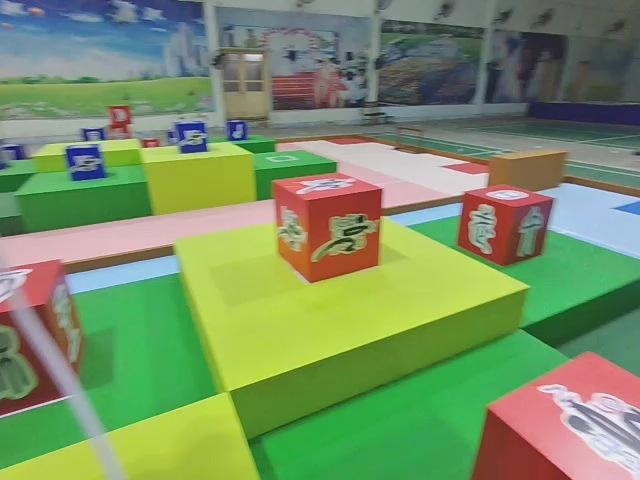R1: (470, 346, 640, 480), (270, 169, 384, 284)
R2 Fake: (455, 181, 556, 267)
